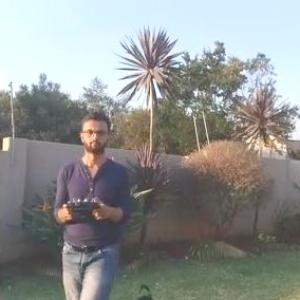follow: (43, 107, 131, 299)
null: (124, 281, 160, 299)
